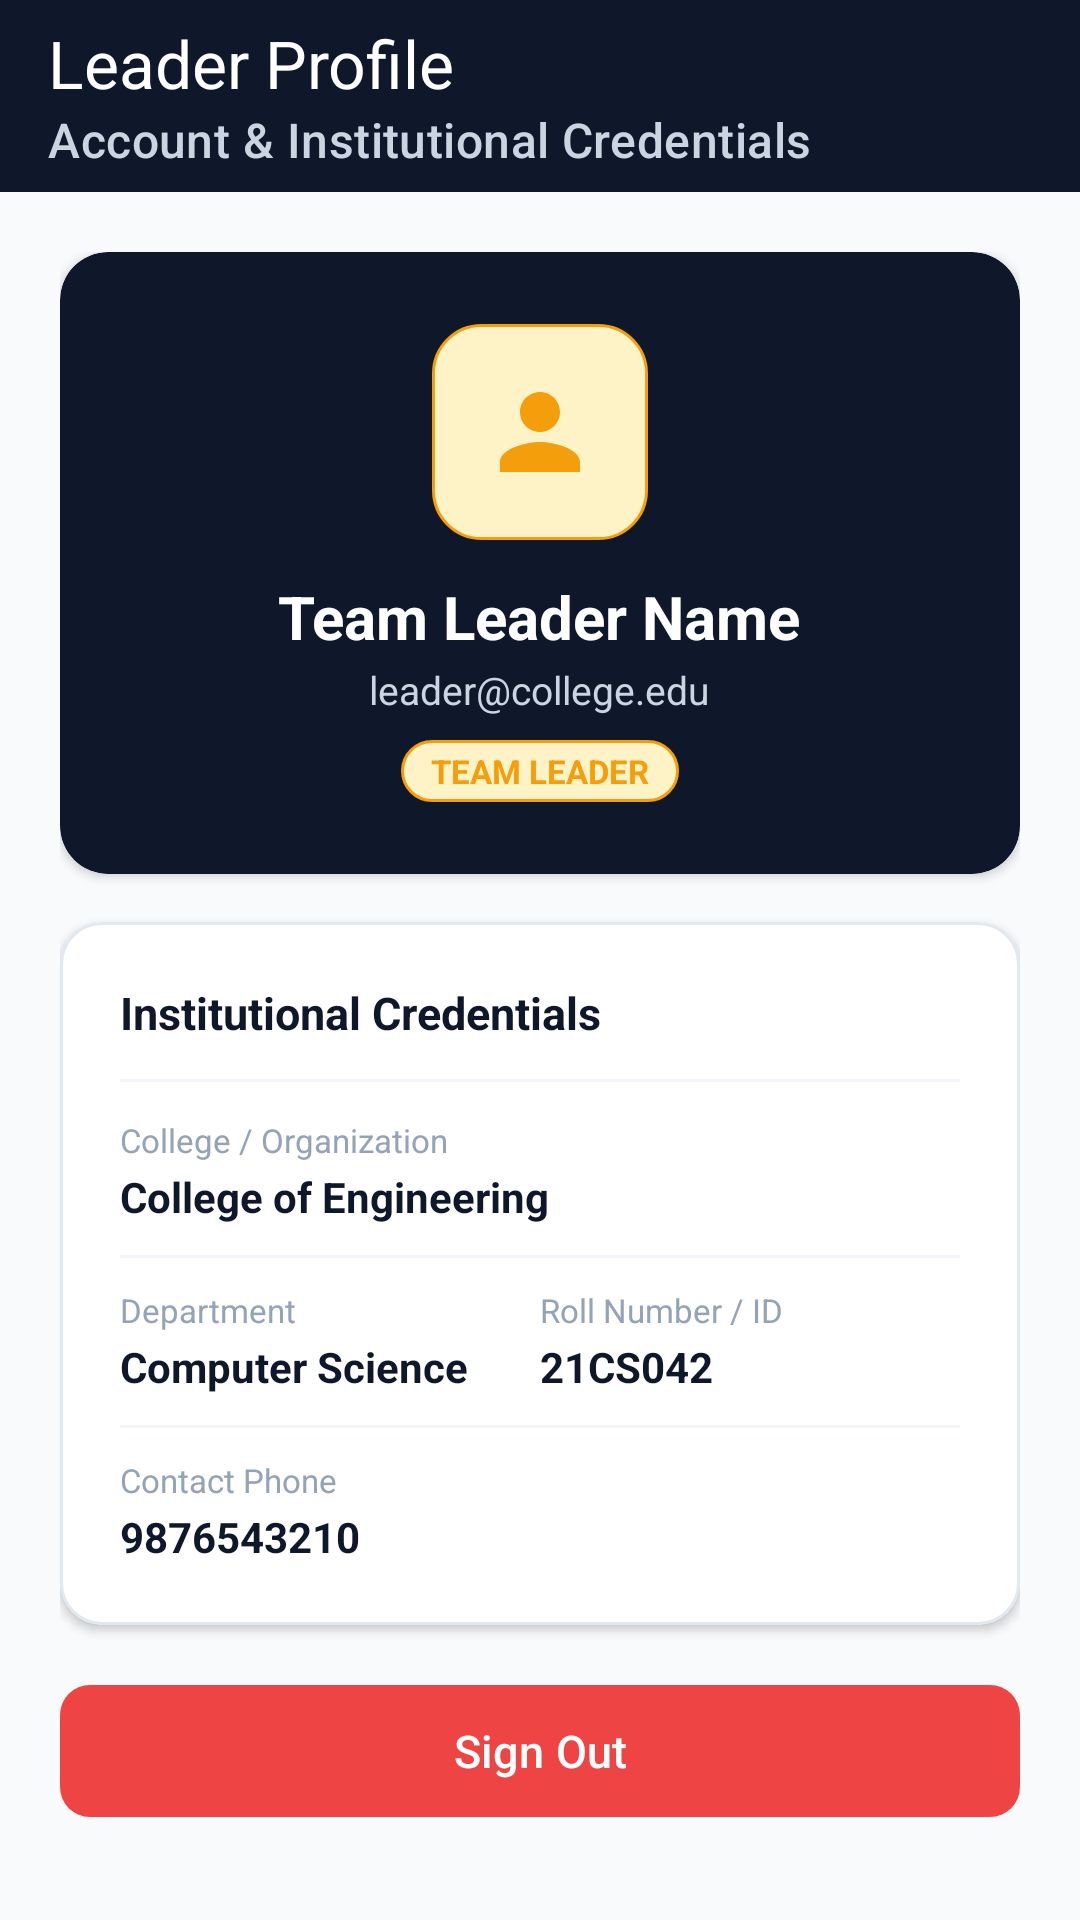

Named icons in this screenshot (1080×1920) and their centers, point (x, y):
Profile Icon: point (540, 432)
